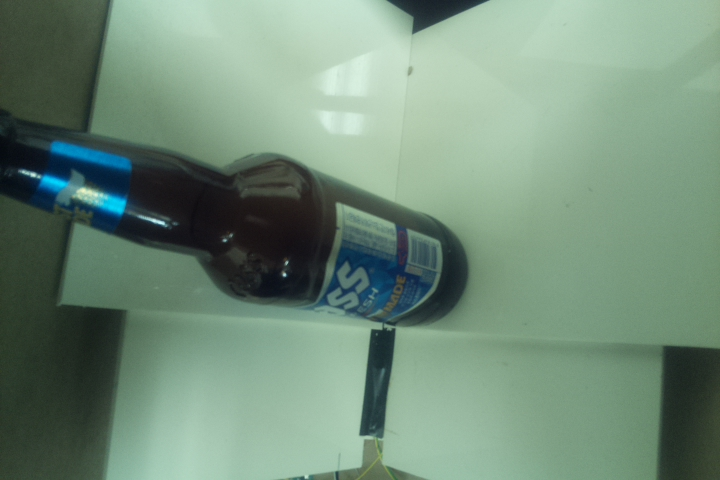makju: (1, 103, 469, 332)
